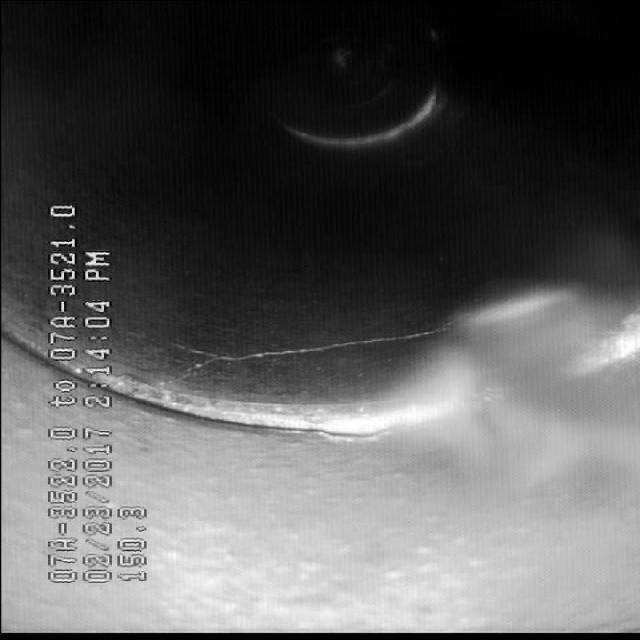Crack: (146, 304, 458, 396)
